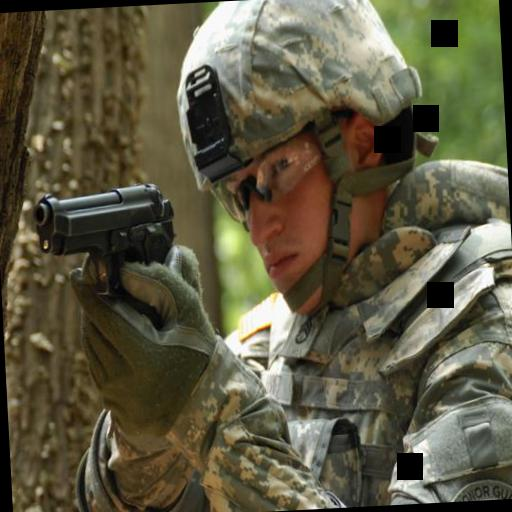Handgun: (30, 172, 186, 332)
